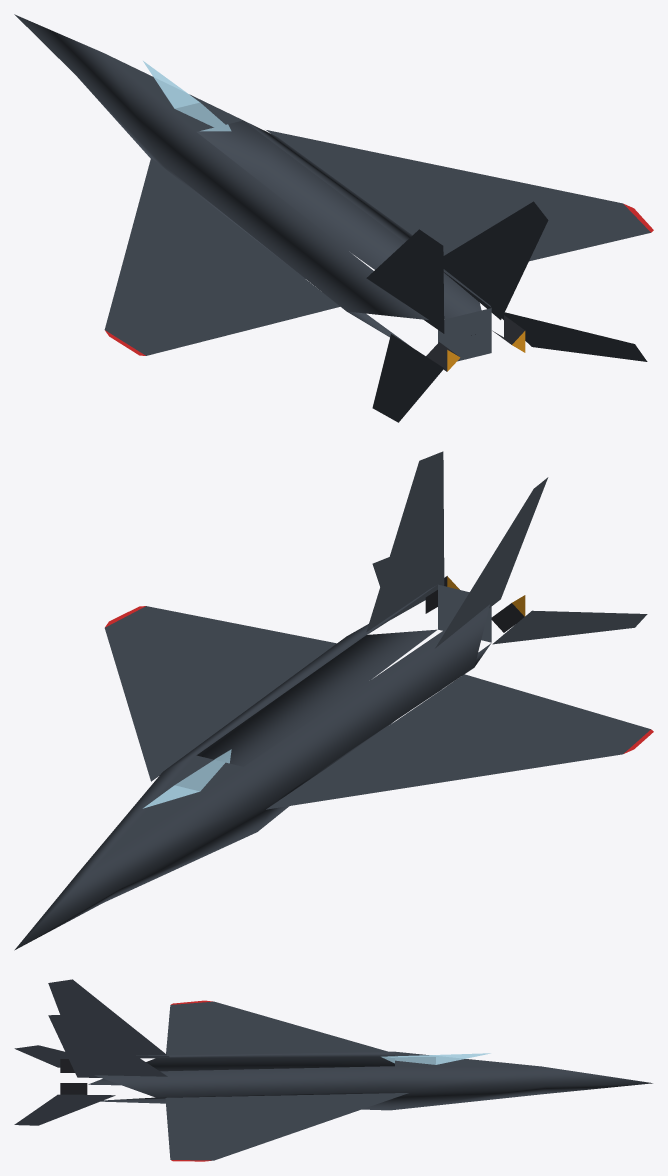
Rendered from ViperStrike.obj.
3 renders of one model, top to bottom at view 1: azimuth 30°, elevation 25°; view 2: azimuth 150°, elevation 25°; view 3: azimuth 270°, elevation 25°, orthographic. The views are drawn at different scales.
Parts seen in each view (by area): view 1: ViperStrike_Complete; view 2: ViperStrike_Complete; view 3: ViperStrike_Complete.
Part boxes in pixels (left/top/right/bottom): ViperStrike_Complete: left=14, top=14, right=653, bottom=422; ViperStrike_Complete: left=14, top=451, right=653, bottom=950; ViperStrike_Complete: left=14, top=979, right=652, bottom=1161.
Bounding box in the file's own units: 7.8 × 2.33 × 13.1.
